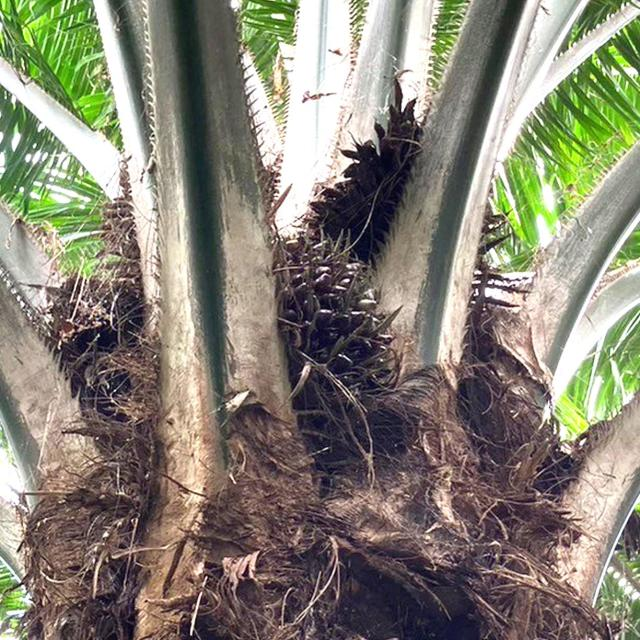almost: (269, 219, 408, 439)
